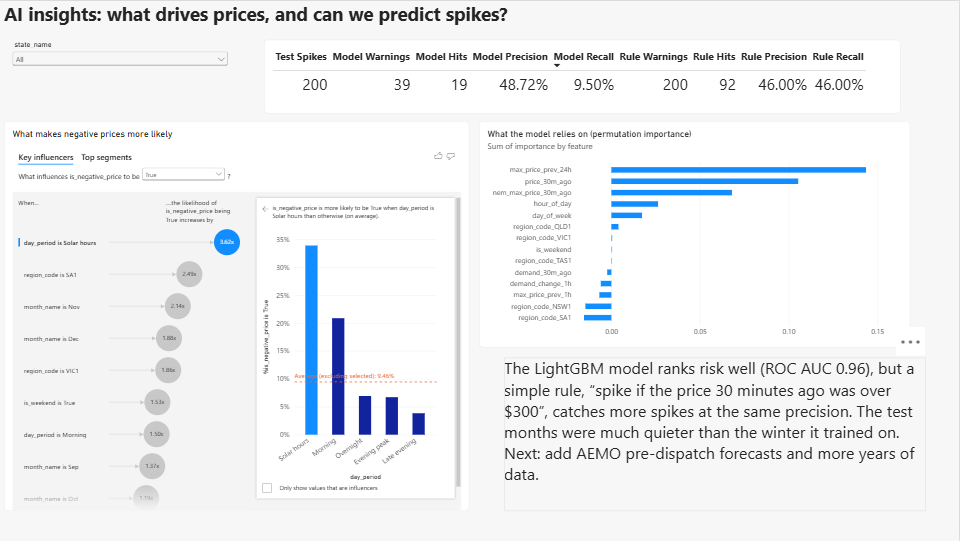

What the dashboard file says about the page in this screenshot:
{"tool":"powerbi","page":{"name":"AI insights","canvas":[1920,1080],"ordinal":2},"visuals":[{"type":"textbox","box":[10,0,1080,87.5],"z":0},{"type":"slicer","fields":{"Values":["dim_region.state_name"]},"box":[22.5,77.5,440,120],"z":1},{"type":"tableEx","fields":{"Values":["price_spike_predictions.Test Spikes","price_spike_predictions.Model Warnings","price_spike_predictions.Model Hits","price_spike_predictions.Model Precision","price_spike_predictions.Model Recall","price_spike_predictions.Rule Warnings","price_spike_predictions.Rule Hits","price_spike_predictions.Rule Precision","price_spike_predictions.Rule Recall"]},"box":[530,77.5,1272.5,147.5],"z":2},{"type":"clusteredBarChart","title":"What the model relies on (permutation importance)","fields":{"Category":["spike_feature_importance.feature"],"Y":["Sum(spike_feature_importance.importance)"]},"box":[960,240,862.5,452.5],"z":3},{"type":"keyDriversVisual","title":"What makes negative prices more likely","fields":{"ExplainBy":["dim_region.region_code","dim_interval.day_period","dim_date.month_name","dim_date.is_weekend"],"Target":["fact_dispatch_price.is_negative_price"]},"box":[10,240,930,780],"z":4},{"type":"textbox","box":[1010,712.5,845,307.5],"z":5}]}

Visuals, with their boxes in screenshot pixels (x1, y1, x2, y2), scaled from the page's 1920x1080 canvas onto the 960x541 screenshot:
textbox: pyautogui.locateOnScreen(5, 0, 545, 44)
slicer - dim_region.state_name: pyautogui.locateOnScreen(11, 39, 231, 99)
tableEx - price_spike_predictions.Test Spikes x price_spike_predictions.Model Warnings: pyautogui.locateOnScreen(265, 39, 901, 113)
"What the model relies on (permutation importance)" clusteredBarChart: pyautogui.locateOnScreen(480, 120, 911, 347)
"What makes negative prices more likely" keyDriversVisual: pyautogui.locateOnScreen(5, 120, 470, 511)
textbox: pyautogui.locateOnScreen(505, 357, 928, 511)
